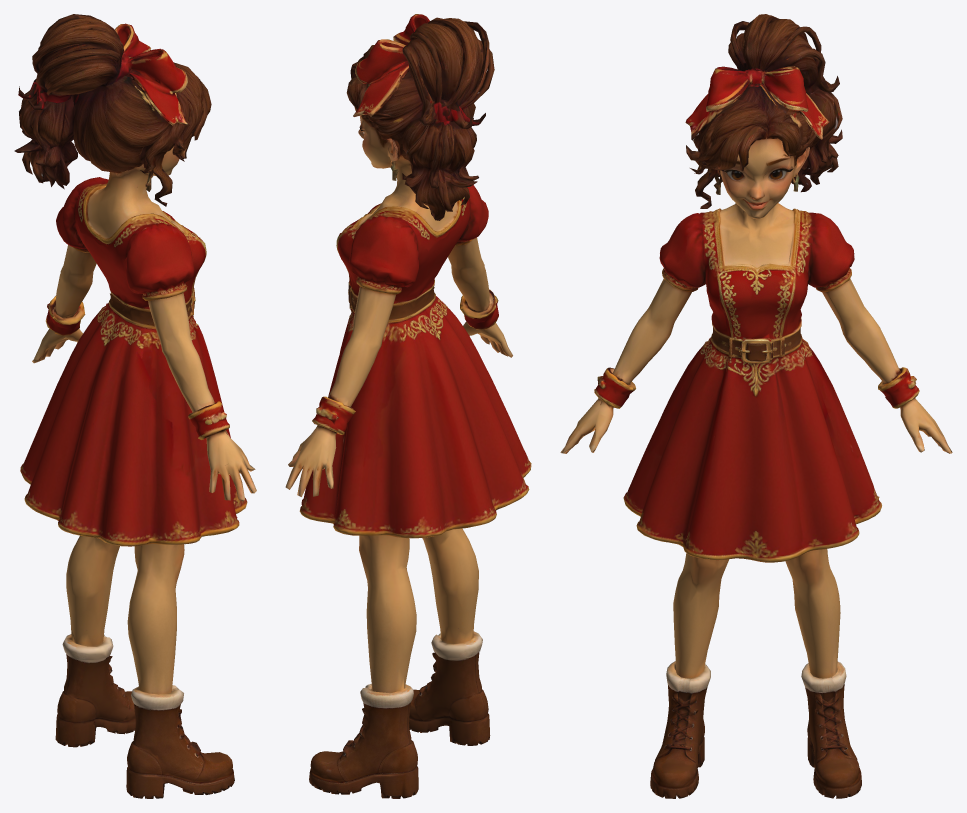
The model's file is RedDressGirl.glb.
3 views of the same model, side by side, from view 1: azimuth 30°, elevation 25°; view 2: azimuth 150°, elevation 25°; view 3: azimuth 270°, elevation 25° (orthographic). The views are drawn at different scales.
Parts seen in each view (by area): view 1: tripo_node_14dcbd52-d09f-4371-9dae-f6776ded11b5; view 2: tripo_node_14dcbd52-d09f-4371-9dae-f6776ded11b5; view 3: tripo_node_14dcbd52-d09f-4371-9dae-f6776ded11b5.
Boxes of the visible parts, x1=… form: tripo_node_14dcbd52-d09f-4371-9dae-f6776ded11b5: x1=14, y1=14, x2=256, y2=798; tripo_node_14dcbd52-d09f-4371-9dae-f6776ded11b5: x1=285, y1=14, x2=531, y2=798; tripo_node_14dcbd52-d09f-4371-9dae-f6776ded11b5: x1=560, y1=14, x2=952, y2=798.
Size of the model in its own units: 0.2462 by 0.9794 by 0.4743.
Materials: 1 (1 with a texture image).
